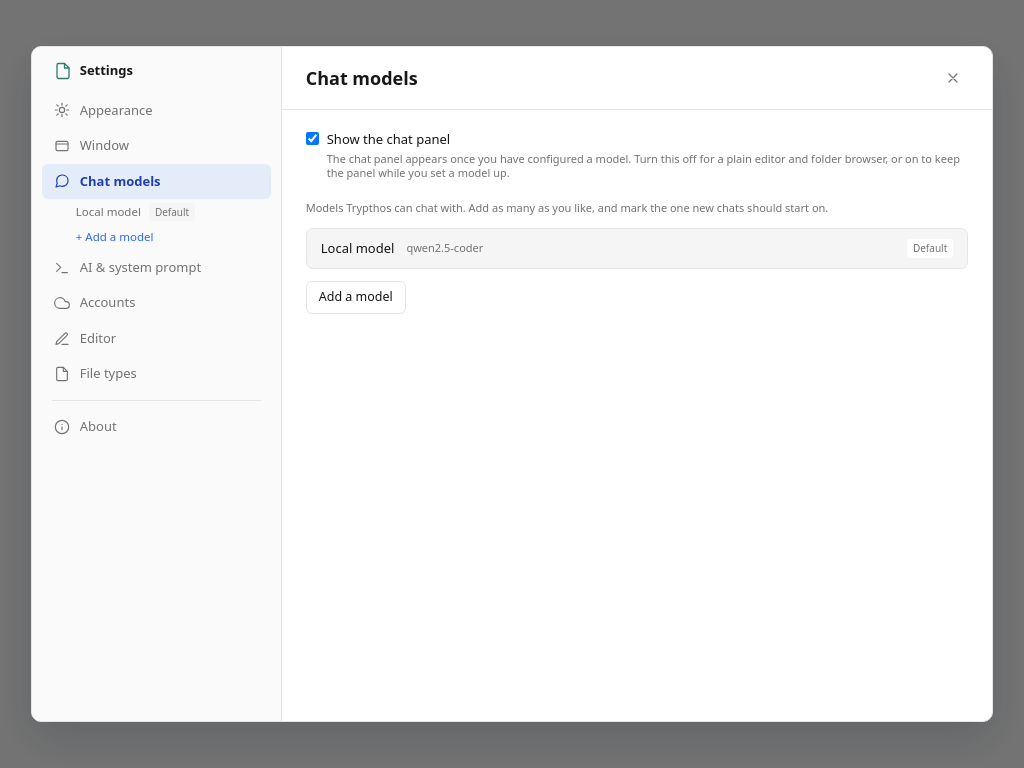
SettingsDialog: showing the chat panel › stays out of the way while a model is being edited
Step 1. Click the button with aria-label "Edit Local model" → [156, 212], box left=42, top=199, right=271, bottom=225
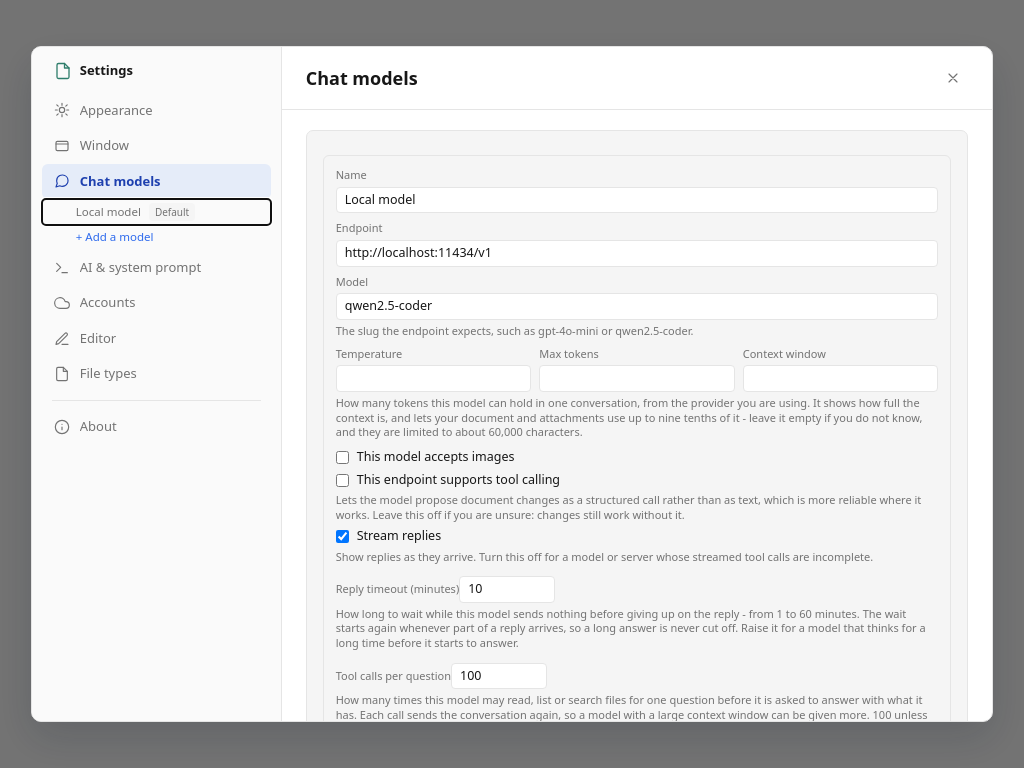
Now the checkbox labelled "Show the chat panel" is gone
